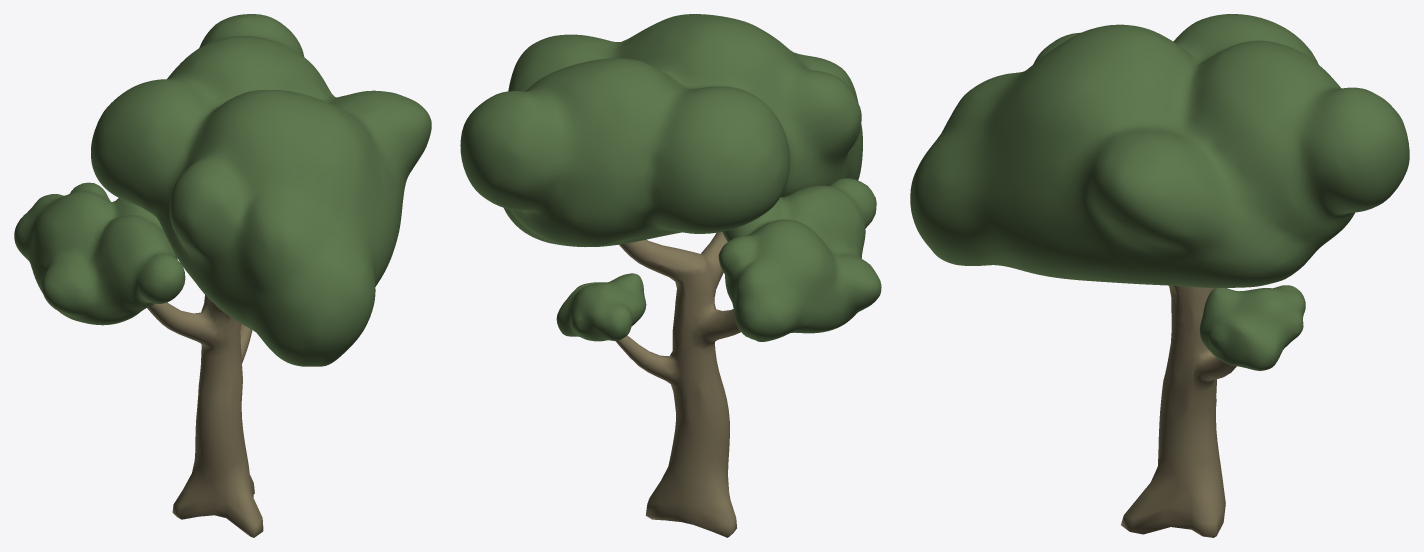
The model's file is SM_Tree_01.fbx.
3 views of the same model, side by side, from view 1: azimuth 30°, elevation 25°; view 2: azimuth 150°, elevation 25°; view 3: azimuth 270°, elevation 25° (orthographic). The views are drawn at different scales.
Parts seen in each view (by area): view 1: polySurface5, polySurface11, pCylinder6; view 2: polySurface5, polySurface11, pCylinder6, polySurface10; view 3: polySurface5, pCylinder6, polySurface10.
Boxes of the visible parts, x1,y1,x2,y2 form: polySurface5: (91, 14, 431, 366); polySurface11: (14, 182, 185, 325); pCylinder6: (147, 295, 263, 537); polySurface5: (460, 14, 862, 246); polySurface11: (718, 178, 881, 341); pCylinder6: (615, 232, 740, 537); polySurface10: (556, 273, 646, 341); polySurface5: (910, 14, 1409, 287); pCylinder6: (1121, 285, 1236, 537); polySurface10: (1199, 285, 1305, 370).
Size of the model in its own units: 12.84 by 13.57 by 15.12.
